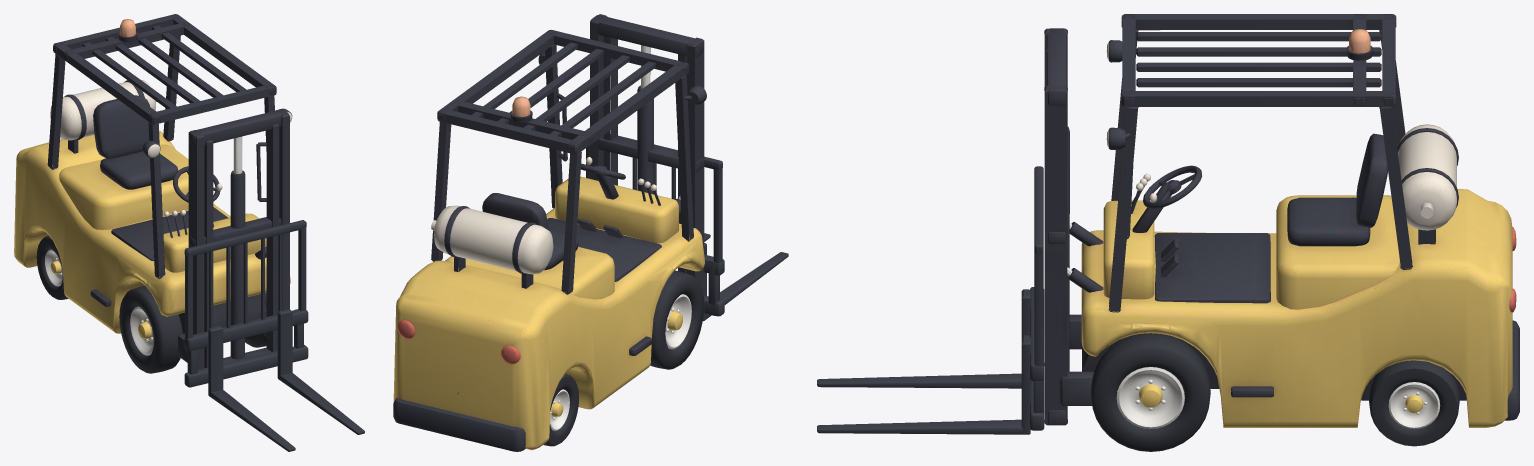
The model's file is forklift-light.glb.
The picture shows the model from 3 angles, left to right: view 1: azimuth 30°, elevation 25°; view 2: azimuth 150°, elevation 25°; view 3: azimuth 270°, elevation 25°; orthographic projection. The views are drawn at different scales.
Visible parts, largest first — view 1: forklift_body, forklift_fork_carriage, forklift_wheel_fr, forklift_wheel_rr; view 2: forklift_body, forklift_wheel_fr, forklift_fork_carriage, forklift_wheel_rr, forklift_headlights; view 3: forklift_body, forklift_wheel_fl, forklift_fork_carriage, forklift_wheel_rl, forklift_headlights.
Boxes of the visible parts, box(x1,y1,x2,y2) form: forklift_body: box(14, 14, 290, 369); forklift_fork_carriage: box(184, 220, 364, 451); forklift_wheel_fr: box(119, 285, 182, 373); forklift_wheel_rr: box(36, 235, 68, 299); forklift_body: box(393, 14, 704, 451); forklift_wheel_fr: box(650, 270, 704, 369); forklift_fork_carriage: box(586, 134, 788, 321); forklift_wheel_rr: box(543, 373, 578, 446); forklift_headlights: box(538, 51, 706, 104); forklift_body: box(1044, 14, 1519, 427); forklift_wheel_fl: box(1090, 333, 1210, 451); forklift_fork_carriage: box(817, 166, 1044, 434); forklift_wheel_rl: box(1369, 360, 1459, 446); forklift_headlights: box(1106, 40, 1130, 149).
Size of the model in its own units: 1.26 by 2.32 by 3.87.
Materials: 16 (1 with a texture image).
